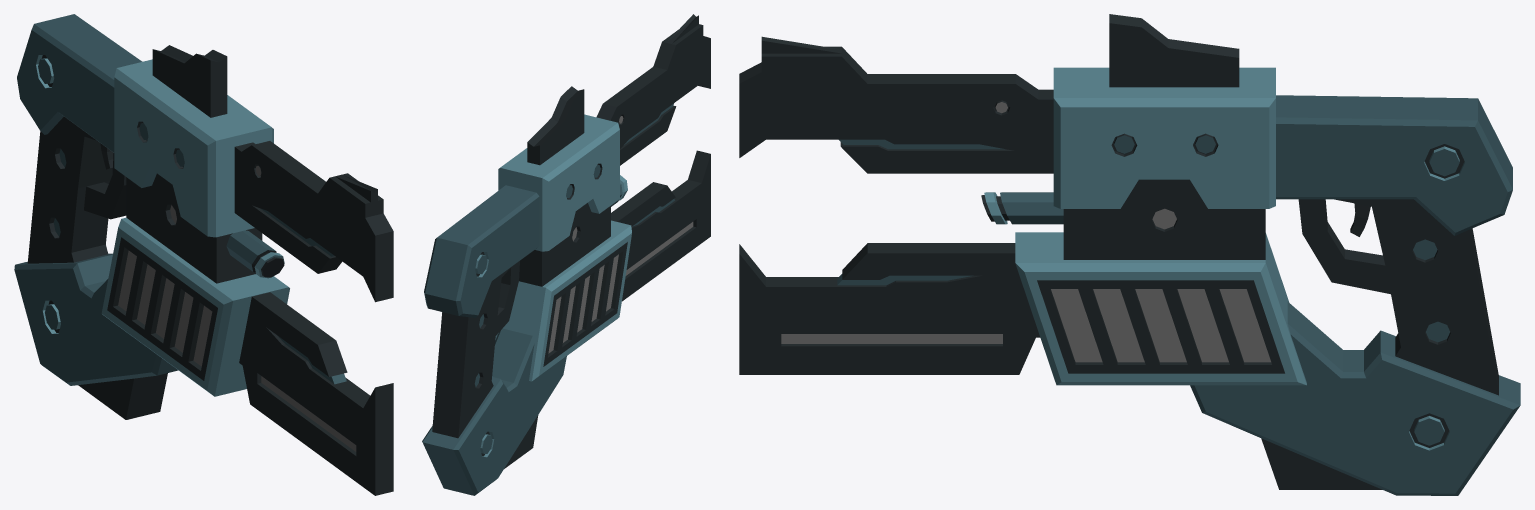
The model's file is Beamgun.fbx.
3 views of the same model, side by side, from view 1: azimuth 30°, elevation 25°; view 2: azimuth 150°, elevation 25°; view 3: azimuth 270°, elevation 25° (orthographic). The views are drawn at different scales.
Parts seen in each view (by area): view 1: Beam_Gun; view 2: Beam_Gun; view 3: Beam_Gun.
Boxes of the visible parts, <box> form: Beam_Gun: <box>14,14,393,495</box>; Beam_Gun: <box>422,14,710,495</box>; Beam_Gun: <box>739,14,1520,495</box>.
Bounding box in the file's own units: 3.26 × 19.55 × 29.69.
